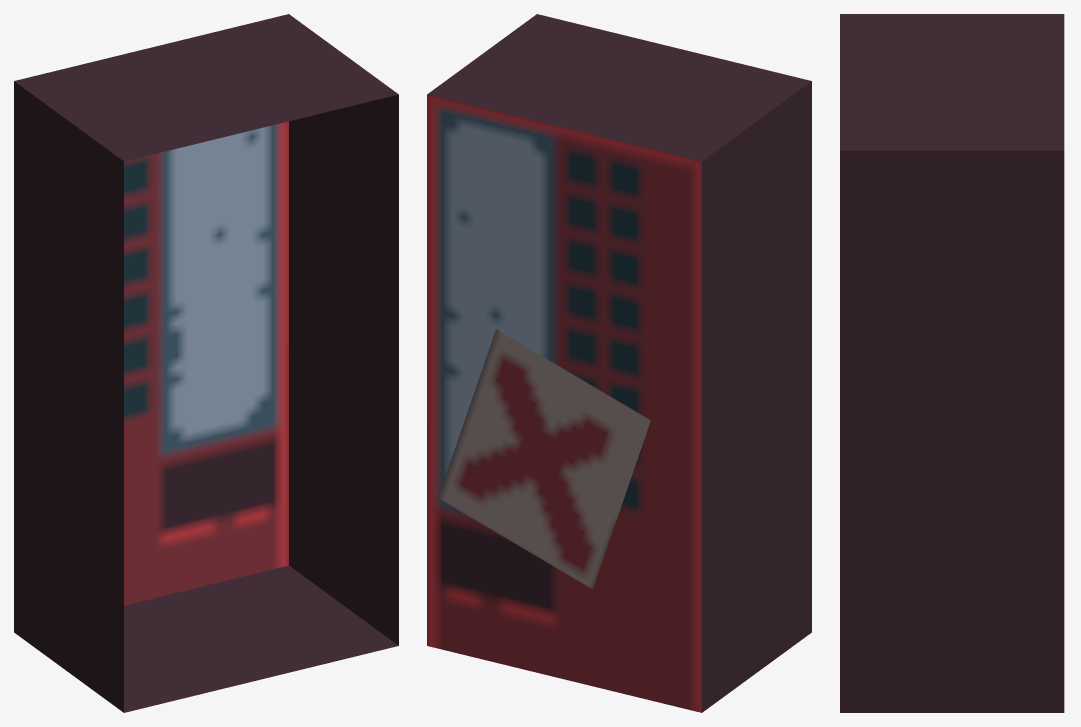
Rendered from MaquinaDeRefrigerante.fbx.
3 renders of one model, left to right at view 1: azimuth 30°, elevation 25°; view 2: azimuth 150°, elevation 25°; view 3: azimuth 270°, elevation 25°, orthographic.
Parts seen in each view (by area): view 1: MaquinaDeRefrigerante; view 2: MaquinaDeRefrigerante; view 3: MaquinaDeRefrigerante.
Part boxes in pixels (x1,y1,x2,y2): MaquinaDeRefrigerante: (14,14,398,712); MaquinaDeRefrigerante: (427,14,811,712); MaquinaDeRefrigerante: (840,14,1064,712).
Size of the model in its own units: 106 by 74.56 by 204.
